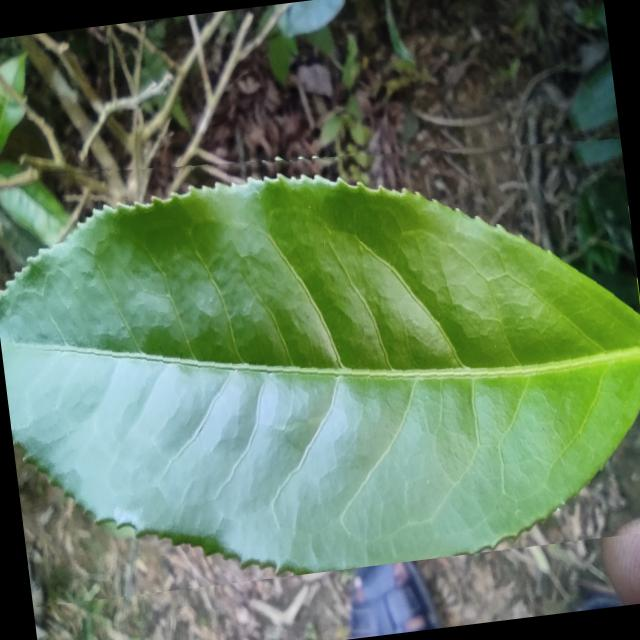Category C(4-7 days): (0, 100, 640, 607)
